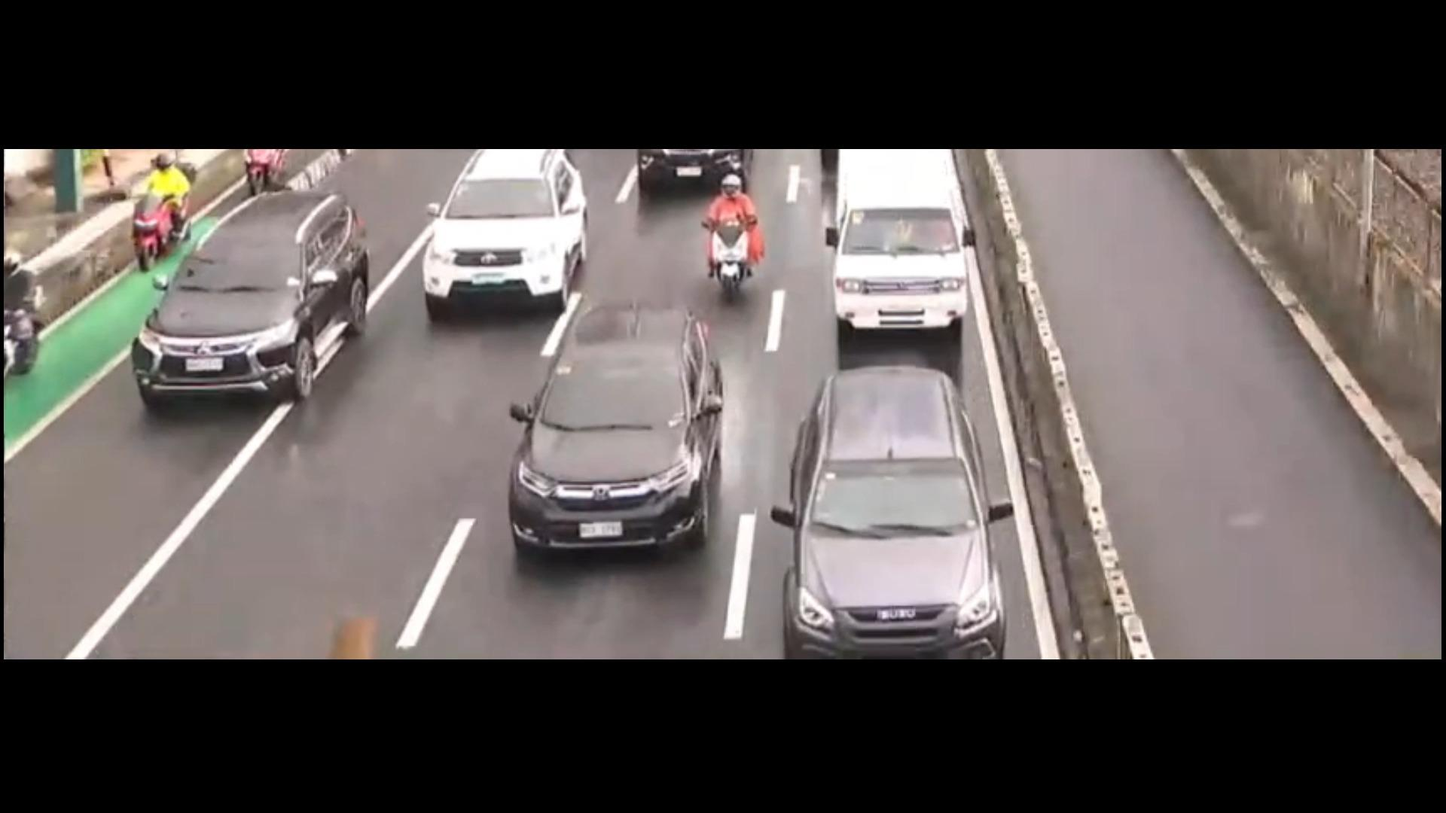Motorcycle: (692, 179, 767, 312), (129, 143, 196, 267), (0, 241, 57, 383), (244, 143, 302, 205)
SUV: (91, 181, 388, 437), (492, 298, 757, 557), (771, 354, 1002, 651), (406, 151, 605, 325)
Truck: (802, 149, 1001, 366)
